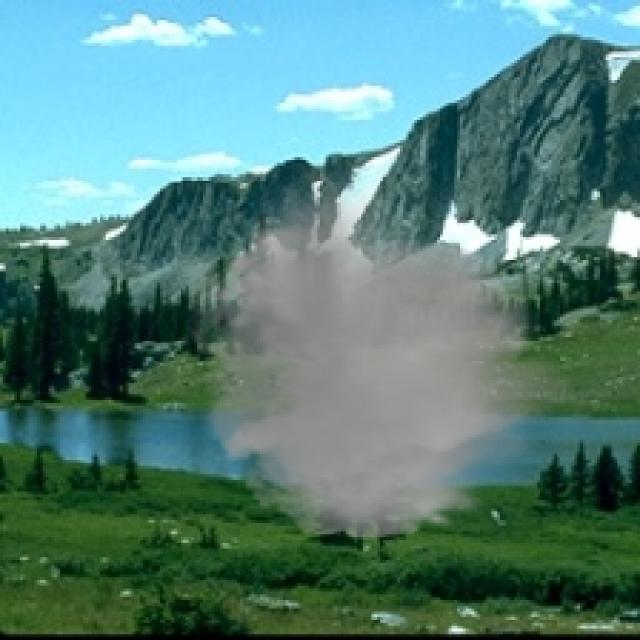smoke: (171, 166, 583, 548)
